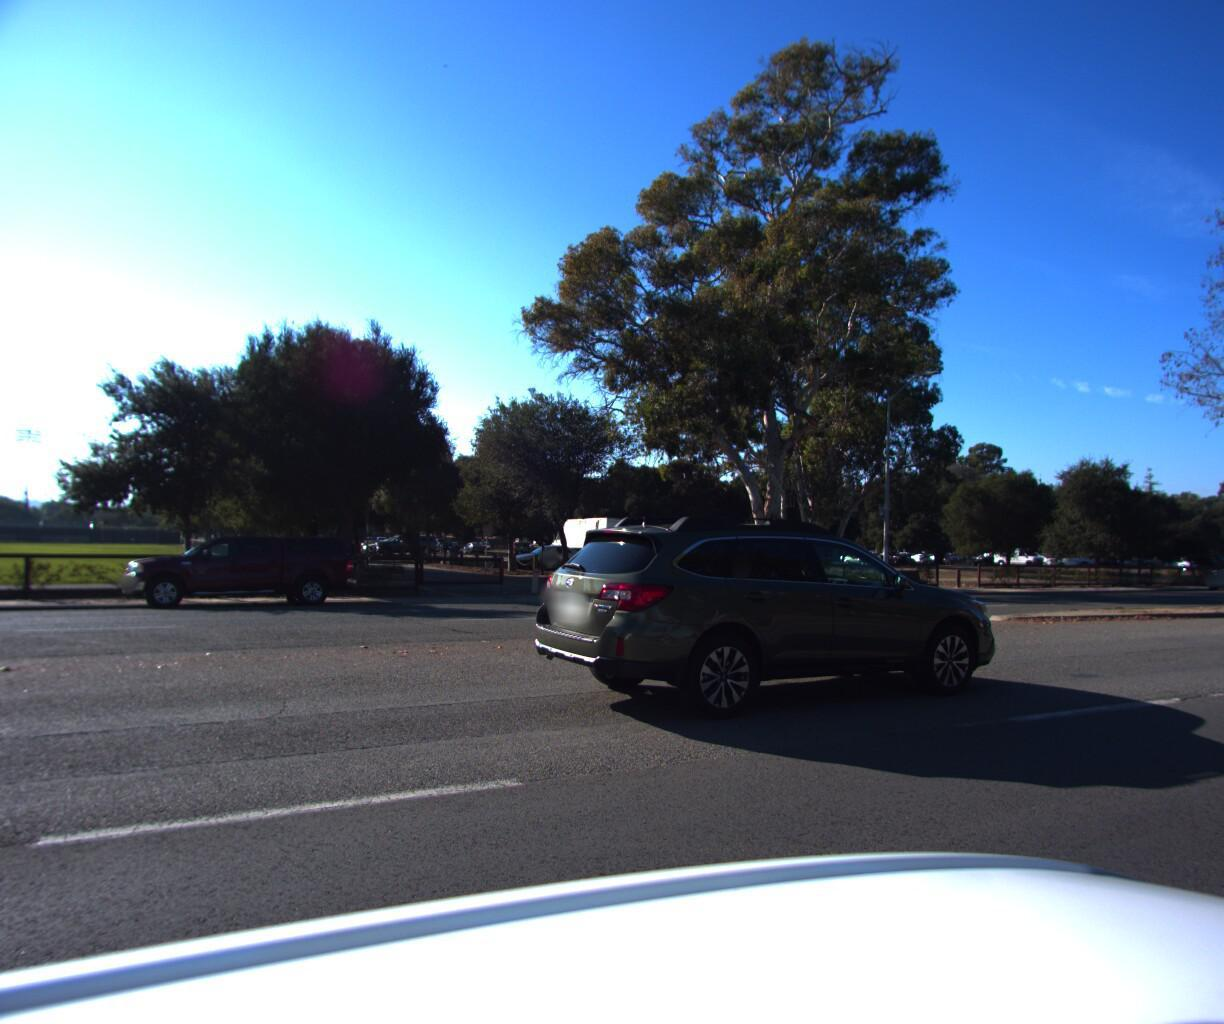car: (508, 489, 1022, 742), (110, 531, 385, 617), (1195, 564, 1224, 591)
